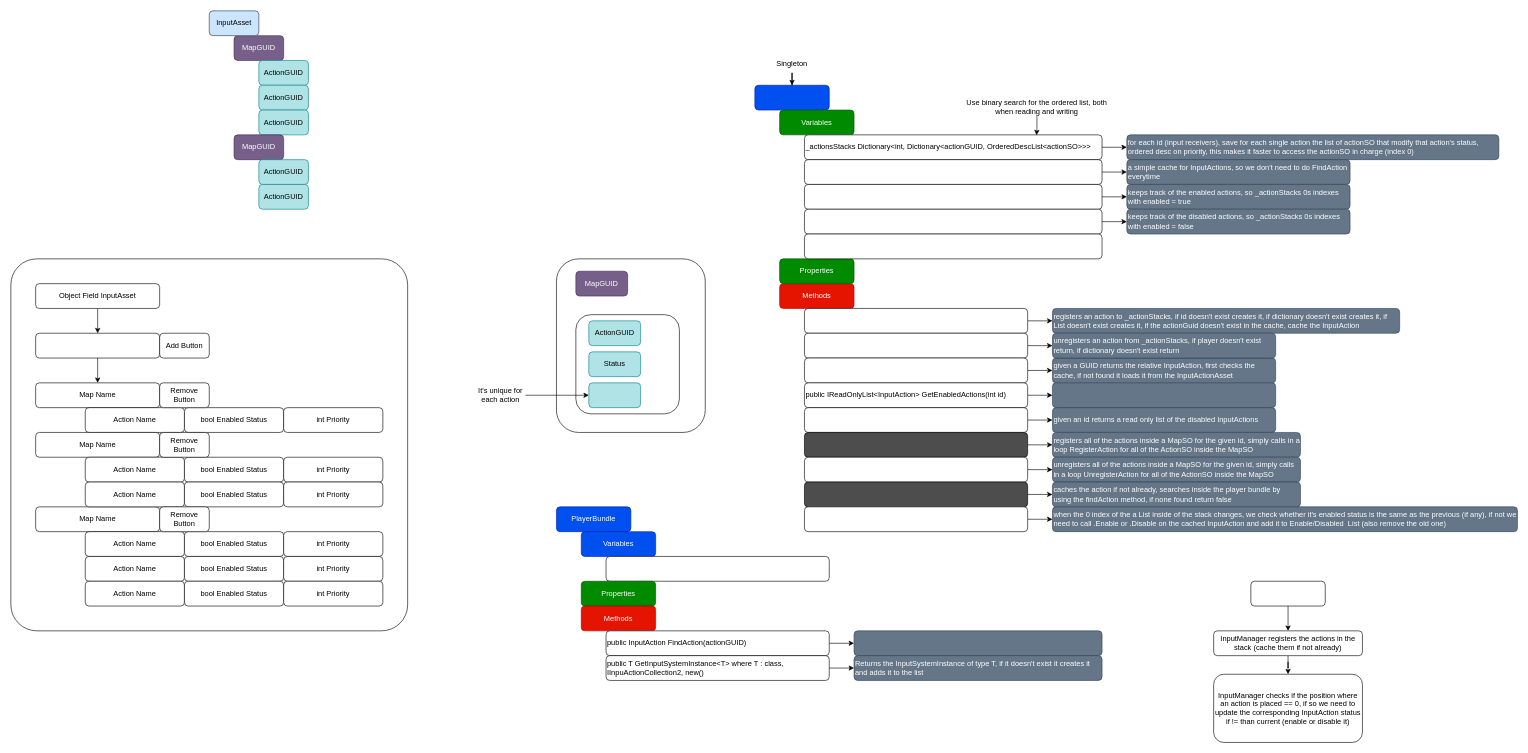
Image size: 1528x753. Some labels were removed from this diagram. The box of each missing label's shape, as (x1, y1, x2, y2) in pixels:
_actionsCache Dictionary<int, Dictionary<actionGUID, InputAction>>: (804, 159, 1102, 184)
_actionsDisabled Dictionary<int, List<InputAction>>: (804, 209, 1102, 234)
_actionsEnabled Dictionary<int, List<InputAction>>: (804, 184, 1102, 209)
_inputActionCollections List<IInputActionCollection2>: (605, 556, 829, 581)
_inputBundles Dictionary<int, InputBundle>: (804, 233, 1102, 259)
given an id returns a read only list of the enabled InputActions: (1052, 382, 1276, 408)
Input Config SO Editor: (10, 258, 408, 631)
InputManager: (754, 85, 829, 110)
List<Struct ActionSO>: (575, 314, 679, 414)
List<Struct MapSO>: (556, 258, 705, 432)
Object Asks to put config: (1250, 581, 1325, 606)
PopUp Maps: (35, 333, 160, 358)
Priority: (588, 382, 641, 408)
private bool CacheAction(int id, actionGUID): (804, 481, 1028, 507)
private InputAction GetAction(actionGUID): (804, 357, 1028, 383)
private void SetActionActive(actionGUID): (804, 506, 1028, 532)
private void UnregisterActionMap(int id, MapSO mapData): (804, 457, 1028, 482)
public IReadOnlyList<InputAction> GetDisabledActions(int id): (804, 407, 1028, 432)
public void RegisterAction(int id, ActionSO actionData): (804, 308, 1028, 333)
public void RegistrActionMap(int id, MapSO mapData): (804, 432, 1028, 457)
public void UnregisterAction(int id, ActionSO actionData): (804, 333, 1028, 358)
Search in each InputActions to find the InputAction, if none return null: (853, 630, 1102, 656)
